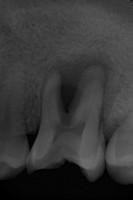Dental Caries: (45, 49, 110, 114)
